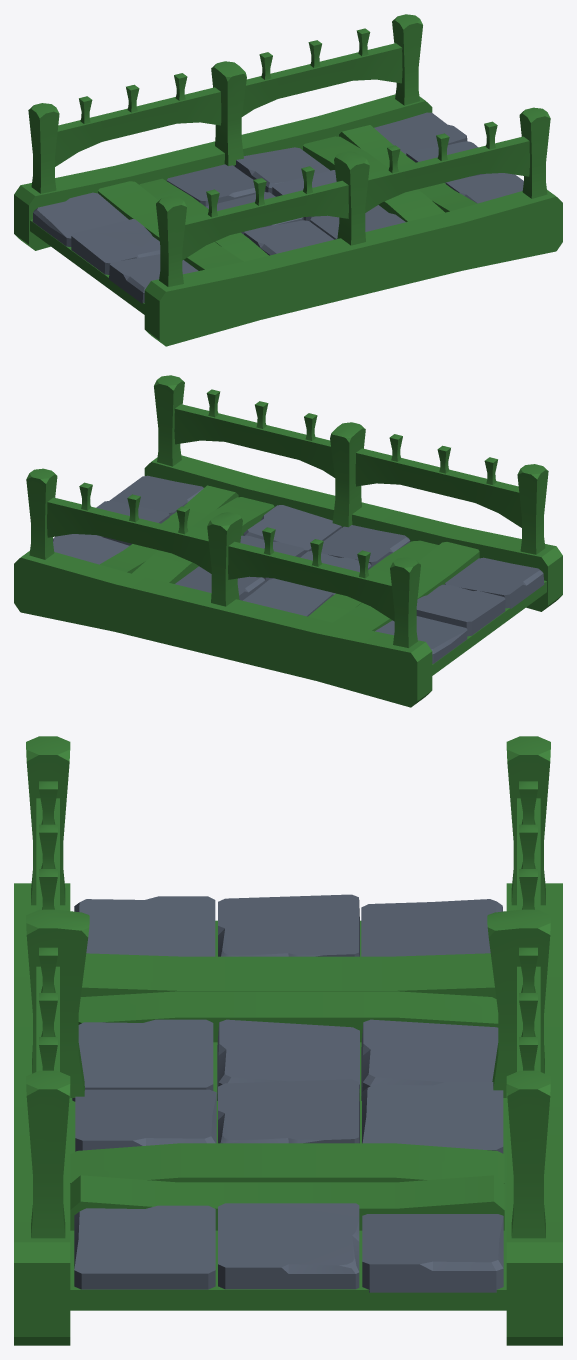
The model's file is OBJ_Bridge.FBX.
The picture shows the model from 3 angles, top to bottom: view 1: azimuth 30°, elevation 25°; view 2: azimuth 150°, elevation 25°; view 3: azimuth 270°, elevation 25°; orthographic projection. The views are drawn at different scales.
Parts seen in each view (by area): view 1: OBJ_Bridge_01, OBJ_Bridge_02; view 2: OBJ_Bridge_01, OBJ_Bridge_02; view 3: OBJ_Bridge_01, OBJ_Bridge_02.
Part boxes in pixels (x1,y1,x2,y2): OBJ_Bridge_01: (14, 14, 562, 346); OBJ_Bridge_02: (32, 112, 523, 303); OBJ_Bridge_01: (14, 375, 562, 707); OBJ_Bridge_02: (53, 475, 544, 663); OBJ_Bridge_01: (14, 736, 562, 1345); OBJ_Bridge_02: (72, 894, 503, 1292).
Size of the model in its own units: 36.03 by 11.59 by 22.53.
